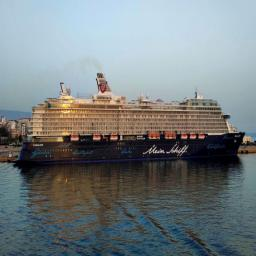cruises: (17, 74, 247, 165)
